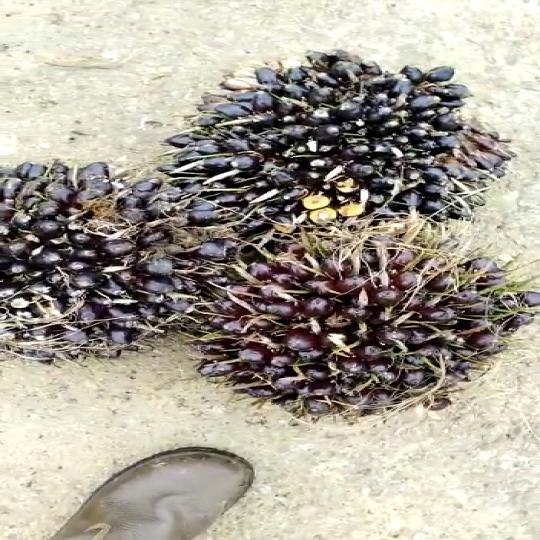mentah: (160, 36, 512, 234), (190, 226, 540, 420), (0, 148, 265, 374)
